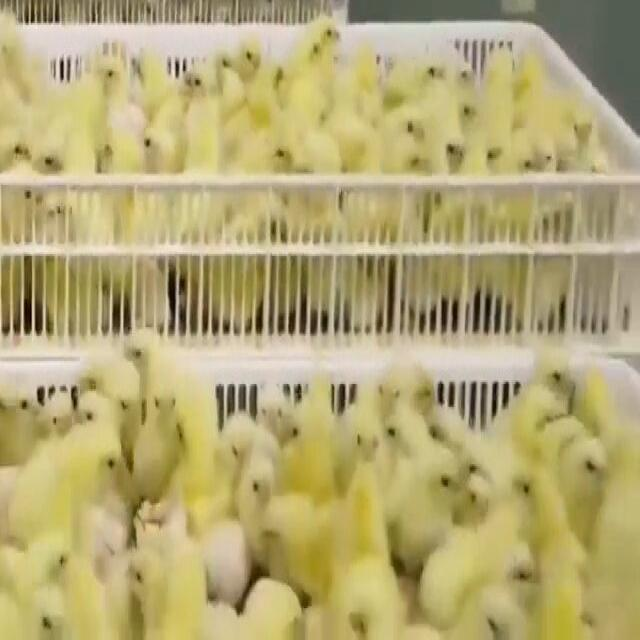chicks: (598, 519, 640, 622), (348, 480, 391, 575), (275, 503, 323, 580), (340, 586, 397, 640), (539, 351, 574, 433), (87, 428, 125, 501), (568, 444, 610, 508), (309, 406, 334, 510), (424, 548, 464, 612), (178, 58, 218, 118), (544, 583, 586, 640), (479, 48, 512, 118), (469, 595, 520, 640), (130, 551, 160, 626), (516, 475, 560, 525), (268, 128, 304, 189), (38, 527, 75, 585), (375, 362, 407, 428), (169, 425, 210, 474), (140, 116, 172, 178), (31, 595, 74, 640), (588, 381, 619, 443), (254, 401, 299, 443), (311, 19, 341, 78), (334, 121, 376, 163), (108, 375, 139, 431), (5, 126, 33, 188), (517, 55, 543, 121), (351, 409, 381, 465), (378, 62, 416, 106), (91, 54, 129, 96), (238, 36, 264, 96), (506, 552, 538, 600), (35, 132, 67, 180), (567, 113, 599, 160), (438, 134, 468, 183), (187, 123, 218, 170), (143, 386, 181, 424), (141, 47, 164, 105), (90, 131, 121, 174), (391, 108, 428, 144), (295, 95, 332, 131), (10, 58, 40, 102), (412, 370, 436, 424), (224, 422, 256, 462), (397, 145, 434, 178), (476, 140, 508, 178), (58, 97, 88, 137), (80, 394, 110, 433), (432, 456, 458, 501), (248, 469, 276, 509), (349, 61, 374, 105), (0, 391, 18, 452), (462, 478, 490, 516), (418, 56, 448, 90), (453, 54, 476, 98), (513, 142, 536, 186), (238, 99, 271, 129), (534, 136, 556, 181), (126, 342, 158, 372), (448, 105, 482, 129), (48, 407, 73, 438), (465, 451, 490, 478)
